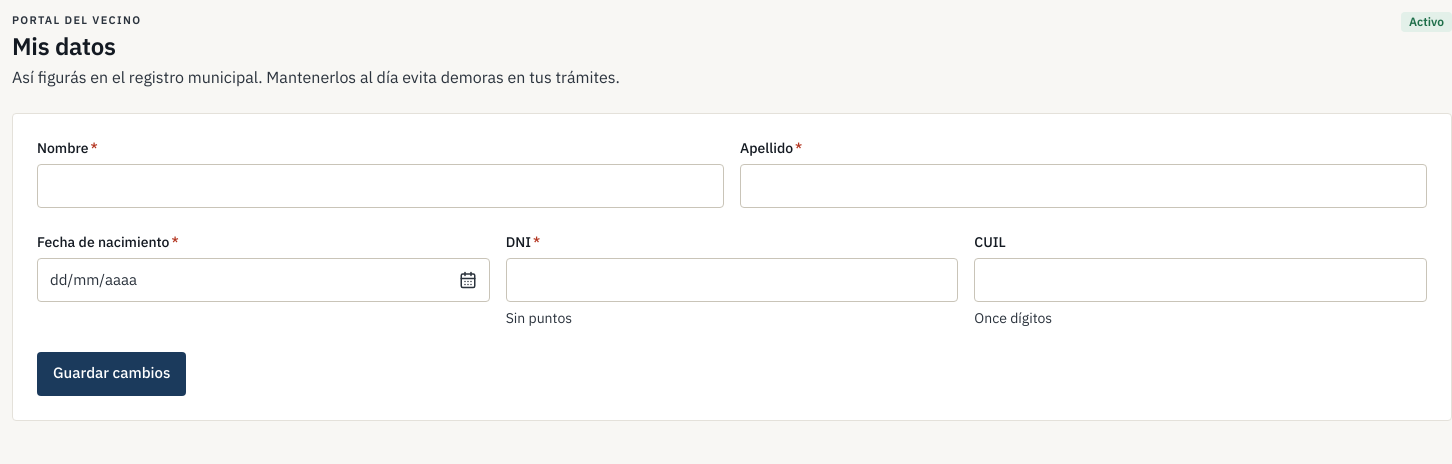
Test case: Perfil › permite completar un legajo que todavía no tiene datos personales
Check: the field labelled "Nombre" is empty, box [37, 164, 724, 208]
Check: the field labelled "Apellido" is empty, box [740, 164, 1427, 208]
Click the button "Guardar cambios".
click(112, 374)  # box [37, 352, 186, 396]
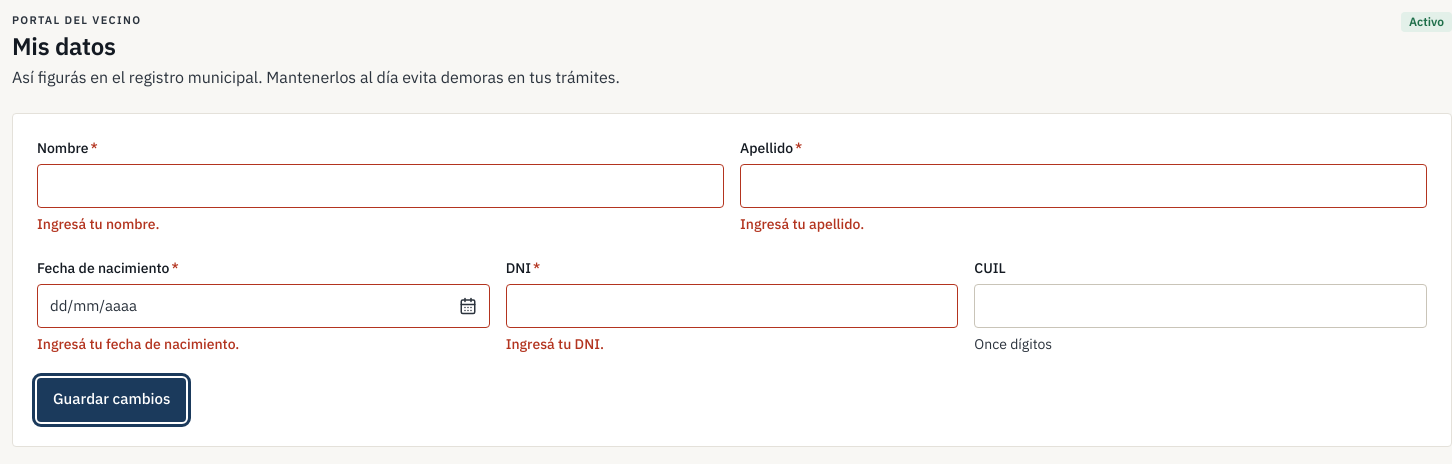
Check: the text "Ingresá tu DNI." is shown, box [506, 334, 604, 352]
